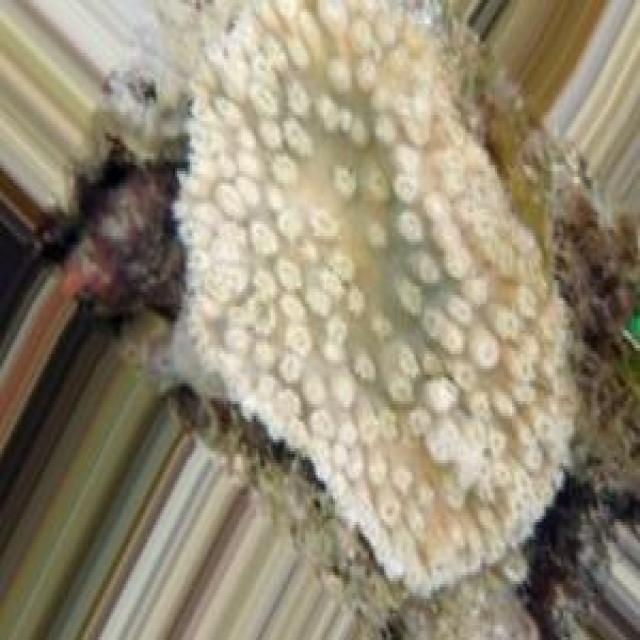Bleached: (168, 2, 583, 608)
